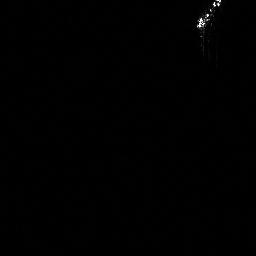ship: (193, 1, 224, 32)
